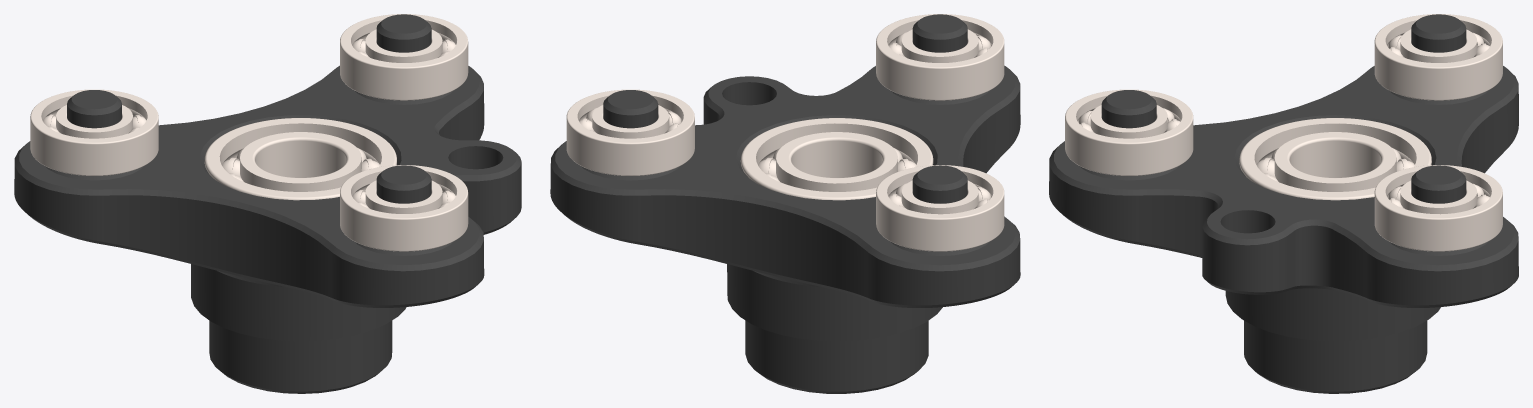
File: MROS_TURRET_CARRIER.gltf
The picture shows the model from 3 angles, left to right: view 1: azimuth 30°, elevation 25°; view 2: azimuth 150°, elevation 25°; view 3: azimuth 270°, elevation 25°; orthographic projection.
Parts seen in each view (by area): view 1: Bottom_Planet_Gear_Holder_B-1, radial ball bearing_68_din-6, radial ball bearing_68_din-2, radial ball bearing_68_din-5, radial ball bearing_68_din-3; view 2: Bottom_Planet_Gear_Holder_B-1, radial ball bearing_68_din-6, radial ball bearing_68_din-5, radial ball bearing_68_din-3, radial ball bearing_68_din-2; view 3: Bottom_Planet_Gear_Holder_B-1, radial ball bearing_68_din-6, radial ball bearing_68_din-2, radial ball bearing_68_din-3, radial ball bearing_68_din-5.
Part boxes in pixels (x1=…): Bottom_Planet_Gear_Holder_B-1: x1=14, y1=14, x2=521, y2=393; radial ball bearing_68_din-6: x1=204, y1=118, x2=396, y2=200; radial ball bearing_68_din-2: x1=340, y1=14, x2=468, y2=100; radial ball bearing_68_din-5: x1=340, y1=165, x2=468, y2=251; radial ball bearing_68_din-3: x1=30, y1=89, x2=158, y2=175; Bottom_Planet_Gear_Holder_B-1: x1=550, y1=14, x2=1020, y2=393; radial ball bearing_68_din-6: x1=740, y1=118, x2=933, y2=200; radial ball bearing_68_din-5: x1=876, y1=14, x2=1004, y2=100; radial ball bearing_68_din-3: x1=876, y1=165, x2=1004, y2=251; radial ball bearing_68_din-2: x1=566, y1=89, x2=694, y2=175; Bottom_Planet_Gear_Holder_B-1: x1=1049, y1=14, x2=1518, y2=393; radial ball bearing_68_din-6: x1=1239, y1=118, x2=1431, y2=200; radial ball bearing_68_din-2: x1=1374, y1=165, x2=1502, y2=251; radial ball bearing_68_din-3: x1=1374, y1=14, x2=1502, y2=100; radial ball bearing_68_din-5: x1=1065, y1=89, x2=1193, y2=175.
Size of the model in its own units: 0.1129 by 0.062 by 0.1025.
